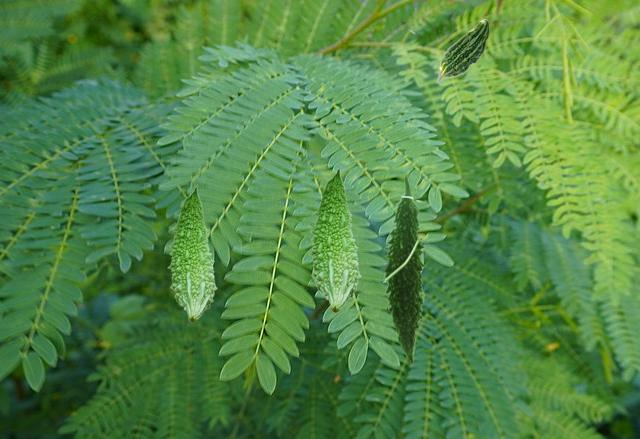ampalaya: (380, 174, 431, 366), (308, 165, 361, 313), (167, 184, 217, 323), (436, 18, 490, 83)
